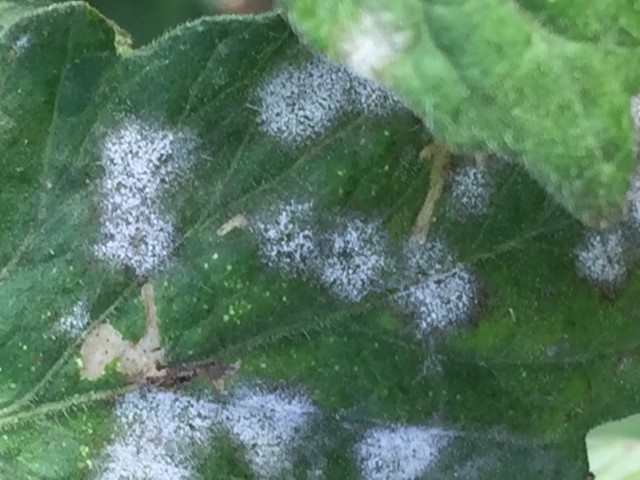oidio: (89, 114, 200, 279), (93, 389, 221, 480), (394, 233, 486, 337), (221, 386, 319, 480), (254, 55, 353, 141), (317, 214, 390, 305), (351, 420, 460, 480), (254, 197, 318, 280), (570, 230, 629, 290), (446, 164, 493, 226), (355, 75, 402, 117), (54, 301, 93, 337), (413, 346, 448, 382), (621, 164, 639, 226), (13, 32, 31, 55)
